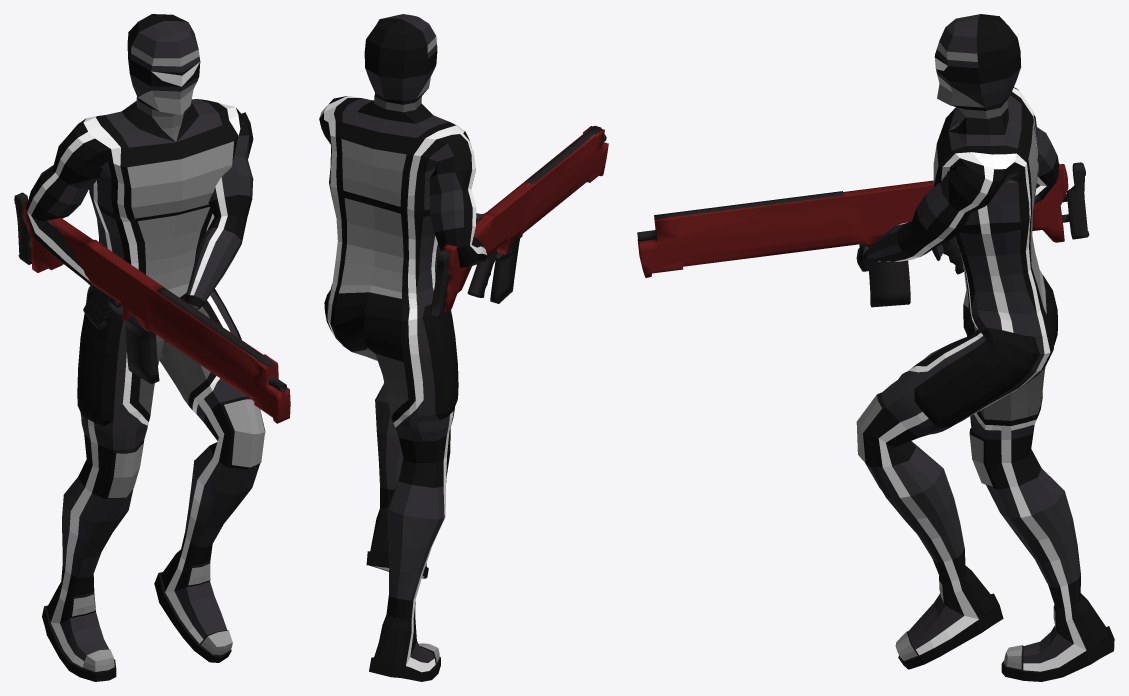
The model's file is ASR6.obj.
3 views of the same model, side by side, from view 1: azimuth 30°, elevation 25°; view 2: azimuth 150°, elevation 25°; view 3: azimuth 270°, elevation 25° (orthographic). The views are drawn at different scales.
Visible parts, largest first — view 1: metarig_object_metarig_mesh, metarig_object.001_metarig_mesh.001; view 2: metarig_object_metarig_mesh, metarig_object.001_metarig_mesh.001; view 3: metarig_object_metarig_mesh, metarig_object.001_metarig_mesh.001.
Boxes of the visible parts, x1=… form: metarig_object_metarig_mesh: x1=26, y1=14, x2=265, y2=681; metarig_object.001_metarig_mesh.001: x1=14, y1=192, x2=290, y2=423; metarig_object_metarig_mesh: x1=319, y1=14, x2=487, y2=681; metarig_object.001_metarig_mesh.001: x1=430, y1=126, x2=608, y2=318; metarig_object_metarig_mesh: x1=856, y1=14, x2=1114, y2=681; metarig_object.001_metarig_mesh.001: x1=637, y1=162, x2=1089, y2=307.
Size of the model in its own units: 0.5584 by 1.88 by 1.2.
2 materials, 2 textured.
